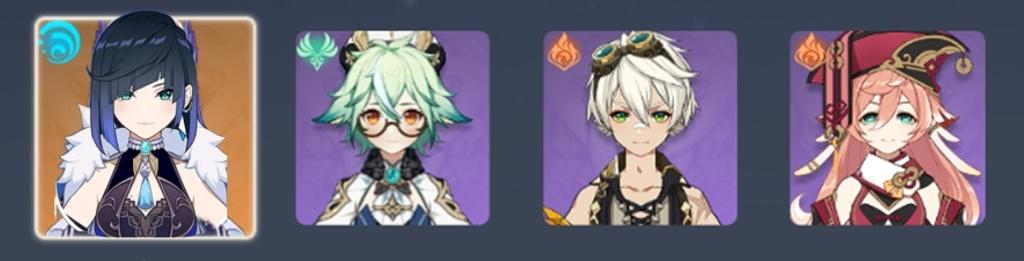夜兰: (46, 17, 245, 234)
